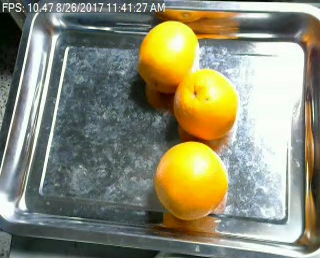Orange: (154, 140, 228, 219), (173, 68, 238, 141), (137, 20, 201, 91)
